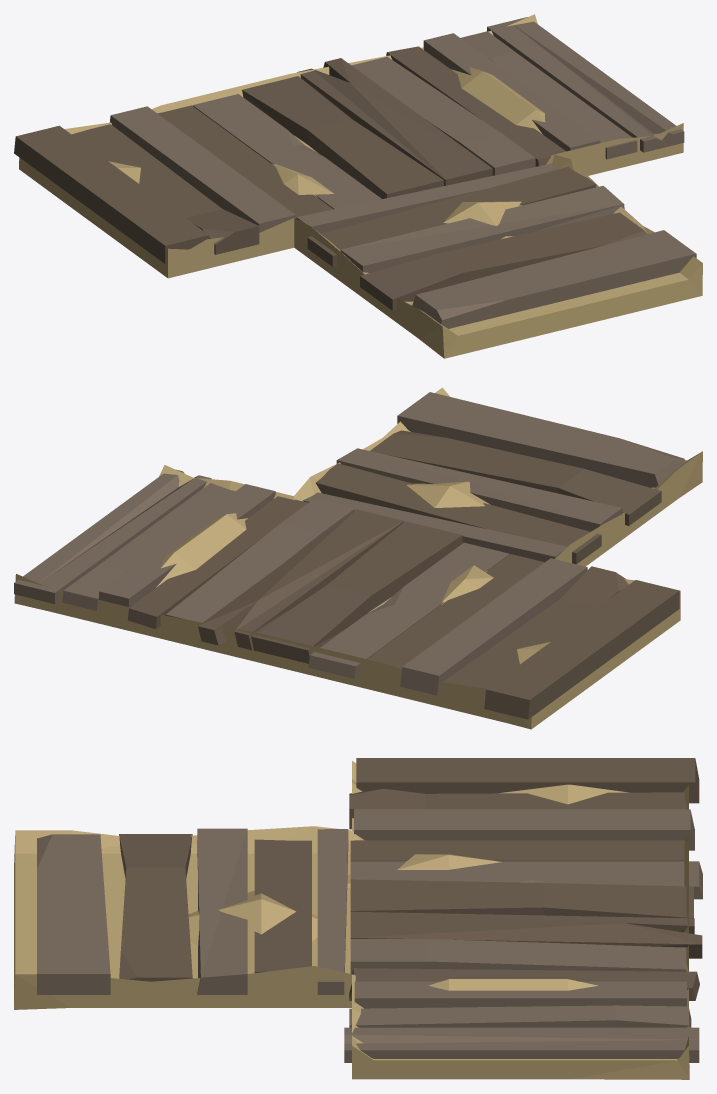
File: Road_Wood_02.glb
3 renders of one model, top to bottom at view 1: azimuth 30°, elevation 25°; view 2: azimuth 150°, elevation 25°; view 3: azimuth 270°, elevation 25°, orthographic. The views are drawn at different scales.
Parts seen in each view (by area): view 1: Road_wood_2; view 2: Road_wood_2; view 3: Road_wood_2.
Boxes of the visible parts, x1,y1,x2,y2 form: Road_wood_2: (14, 14, 702, 358); Road_wood_2: (14, 387, 702, 729); Road_wood_2: (14, 758, 702, 1079).
Bounding box in the file's own units: 6.01 × 0.46 × 6.12.
1 material, 1 textured.
